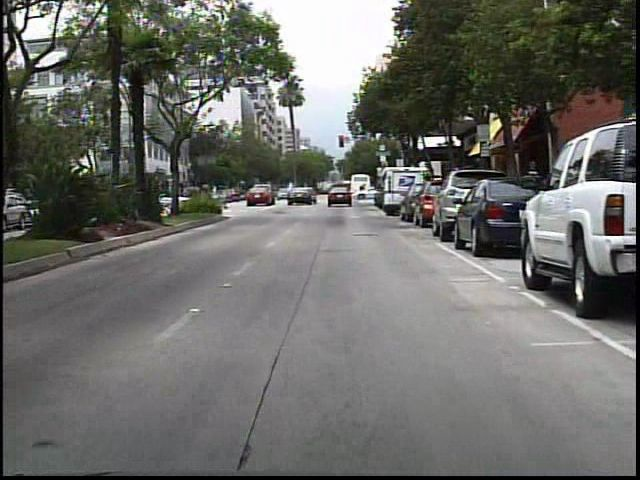person: (354, 181, 371, 202), (298, 183, 312, 205)
